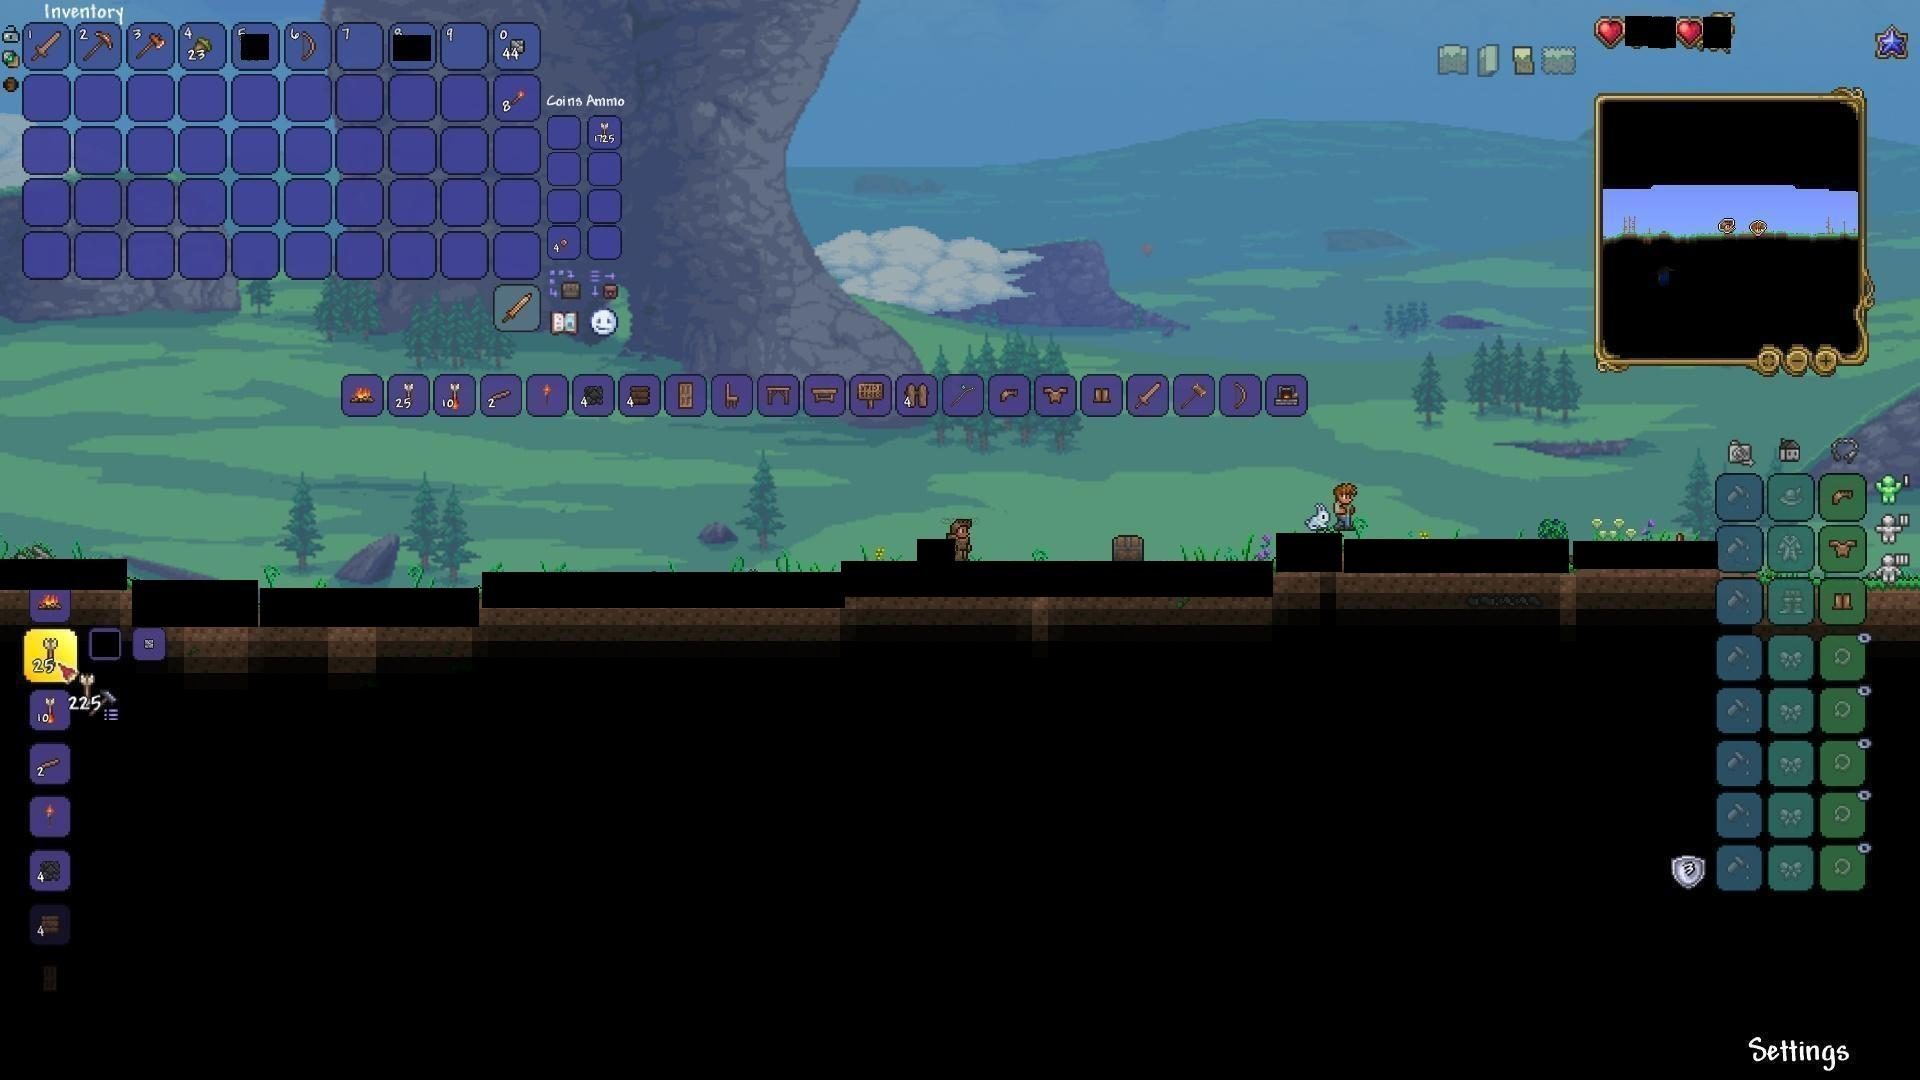breastplate: (1829, 538, 1859, 559), (1040, 386, 1069, 407)
dirt: (1865, 578, 1920, 615)
heart: (1676, 17, 1704, 47), (1596, 16, 1625, 44)
helmet: (1828, 483, 1859, 512), (994, 382, 1025, 410)
legs: (1091, 381, 1116, 409), (1832, 588, 1855, 617)
workbench: (807, 382, 844, 407)
